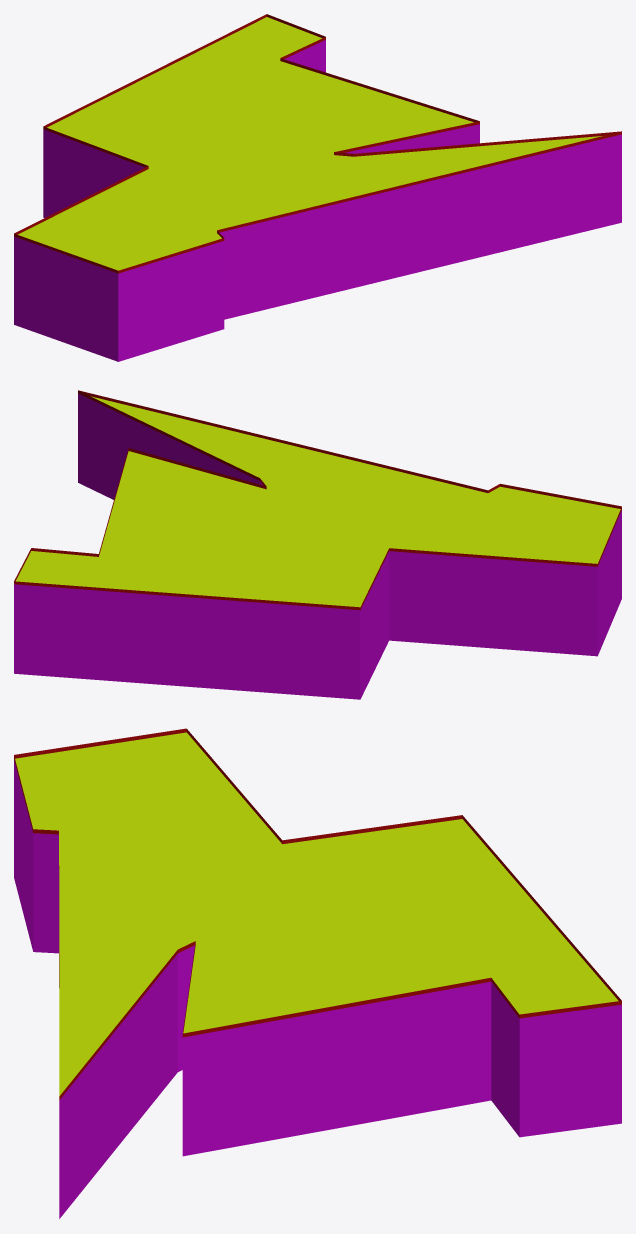
Rendered from sbl_41.glb.
3 views of the same model, one above another, from view 1: azimuth 30°, elevation 25°; view 2: azimuth 150°, elevation 25°; view 3: azimuth 270°, elevation 25° (orthographic). The views are drawn at different scales.
Visible parts, largest first — view 1: sbl_41; view 2: sbl_41; view 3: sbl_41.
Part boxes in pixels (x1,y1,x2,y2): sbl_41: (14, 14, 621, 361); sbl_41: (14, 390, 621, 699); sbl_41: (14, 728, 621, 1218).
Bounding box in the file's own units: 70.49 × 10.96 × 49.19.
